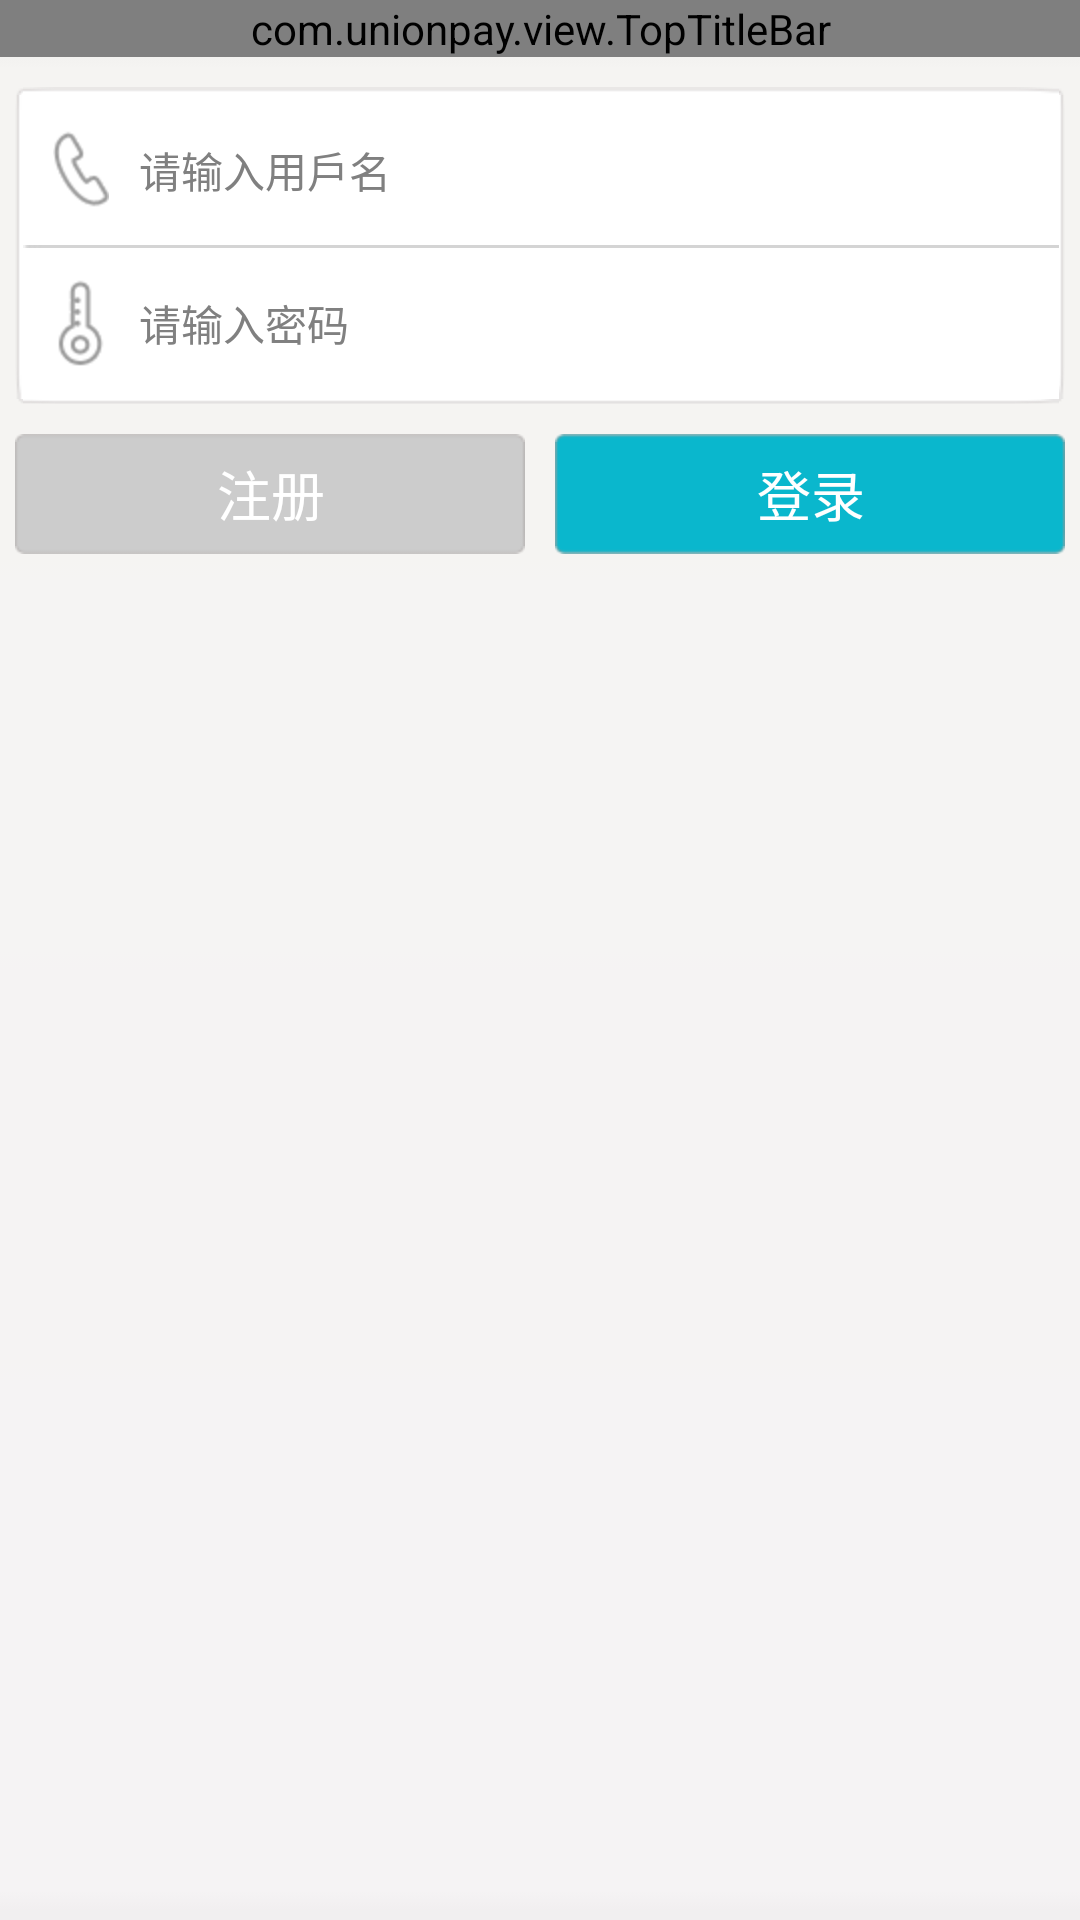

Icons on this 1080px×1920px Android screen, each with the point to tap as point (x, y):
login password: point (80, 323)
login phone: point (81, 169)
